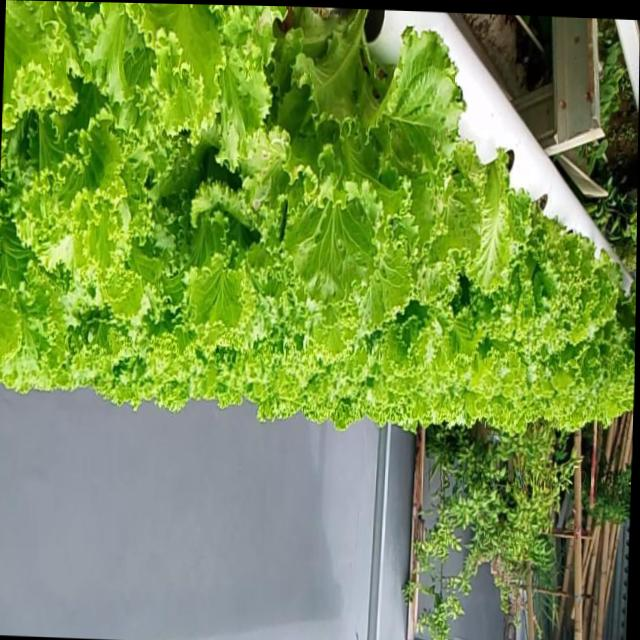Mature: (0, 0, 636, 446), (282, 16, 476, 310), (489, 173, 633, 388)
